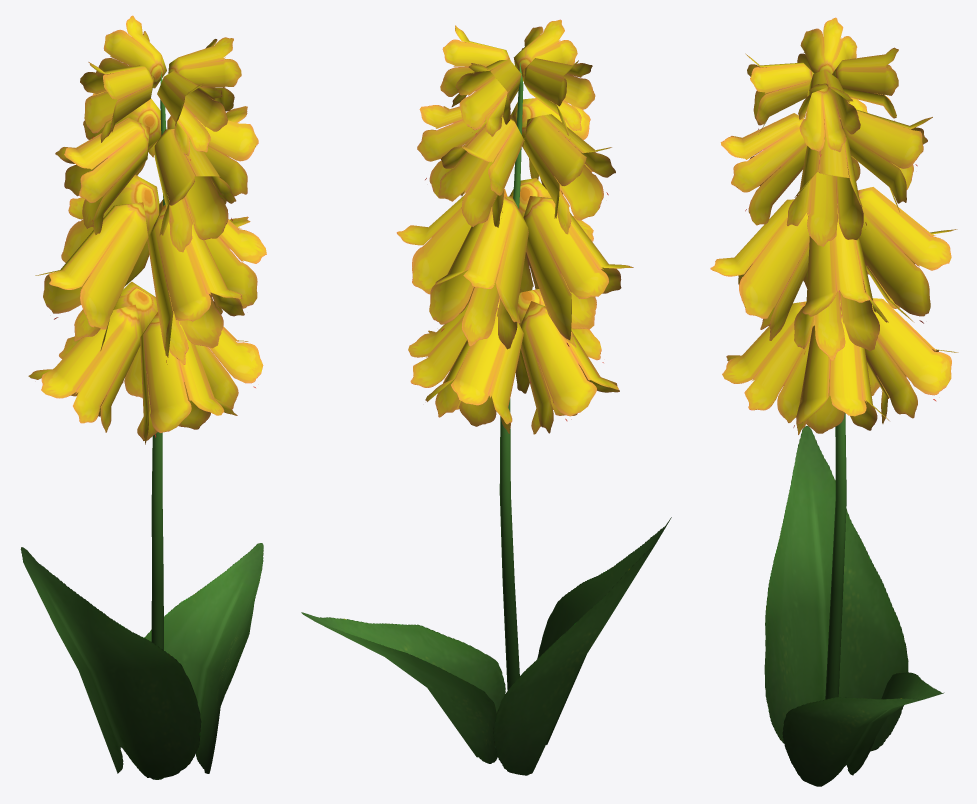
Rendered from Flower_4_Single.gltf.
3 renders of one model, left to right at view 1: azimuth 30°, elevation 25°; view 2: azimuth 150°, elevation 25°; view 3: azimuth 270°, elevation 25°, orthographic.
Visible parts, largest first — view 1: Flower_4_Single; view 2: Flower_4_Single; view 3: Flower_4_Single.
Boxes of the visible parts, x1,y1,x2,y2 form: Flower_4_Single: (20, 15, 266, 779); Flower_4_Single: (301, 19, 671, 775); Flower_4_Single: (710, 17, 958, 786).
Size of the model in its own units: 1.07 by 2.42 by 0.7729.
Materials: 2 (2 with a texture image).
